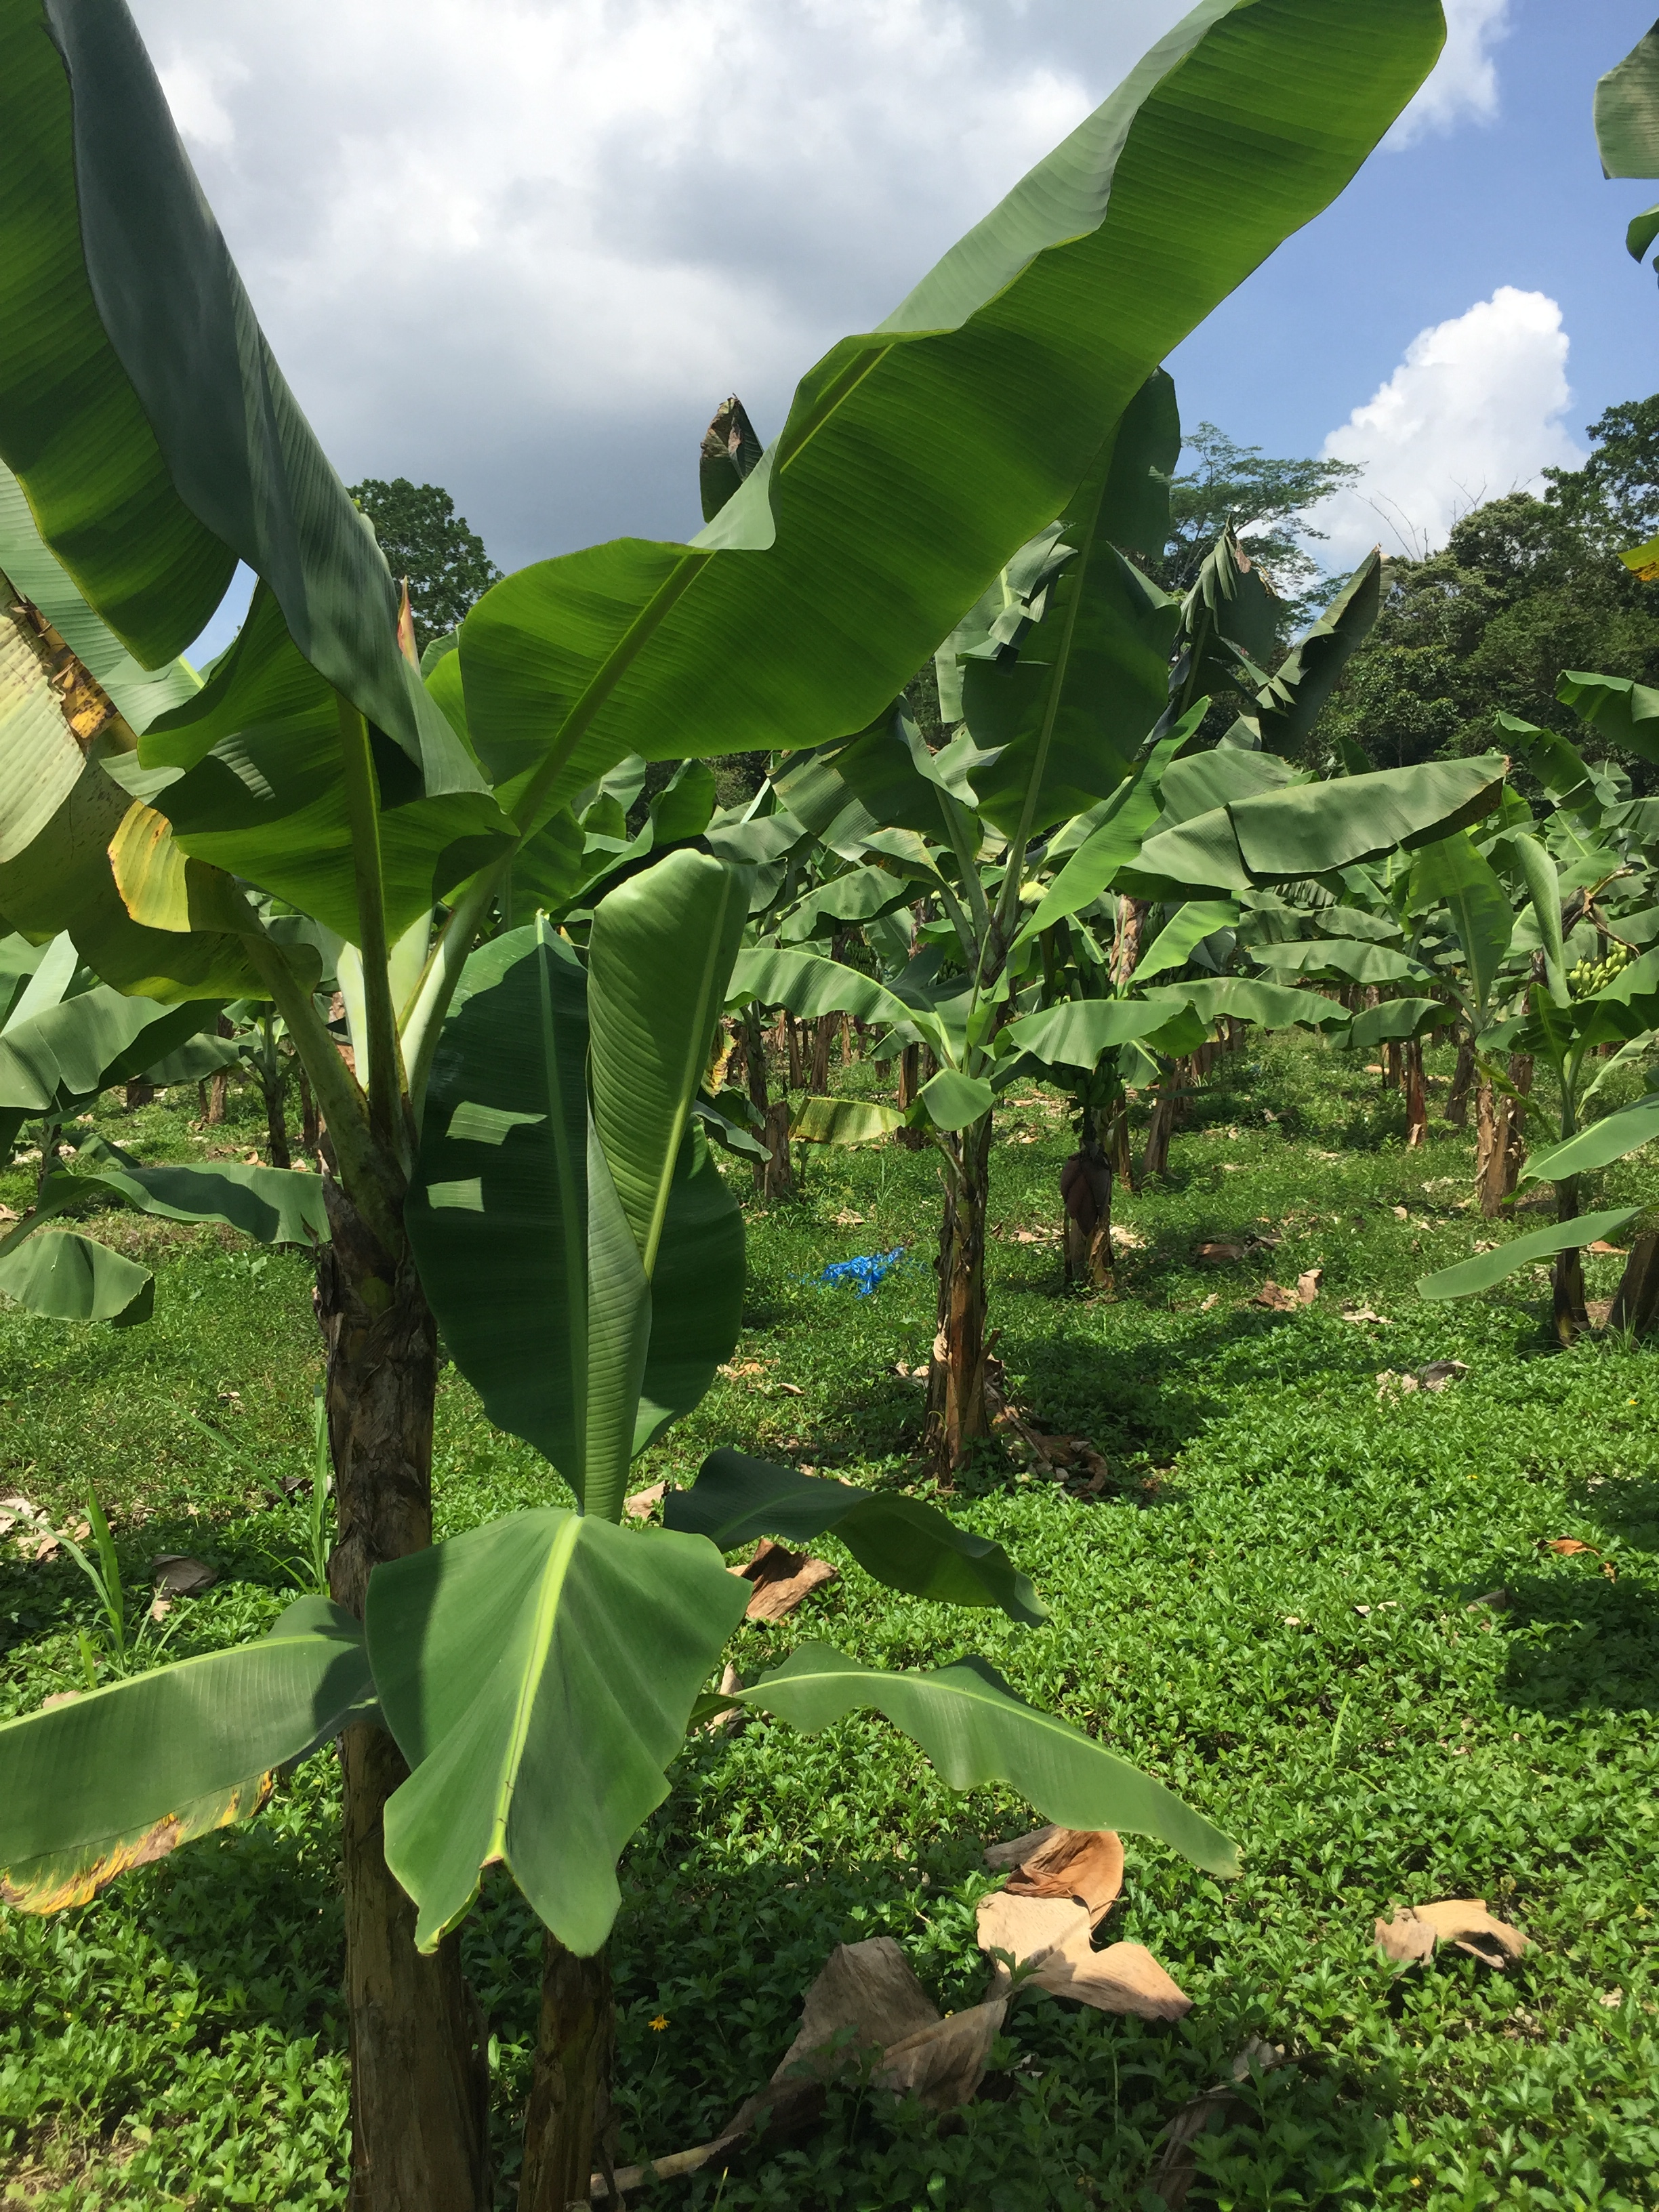candleleafs: (582, 860, 758, 1514), (1514, 831, 1567, 995)
